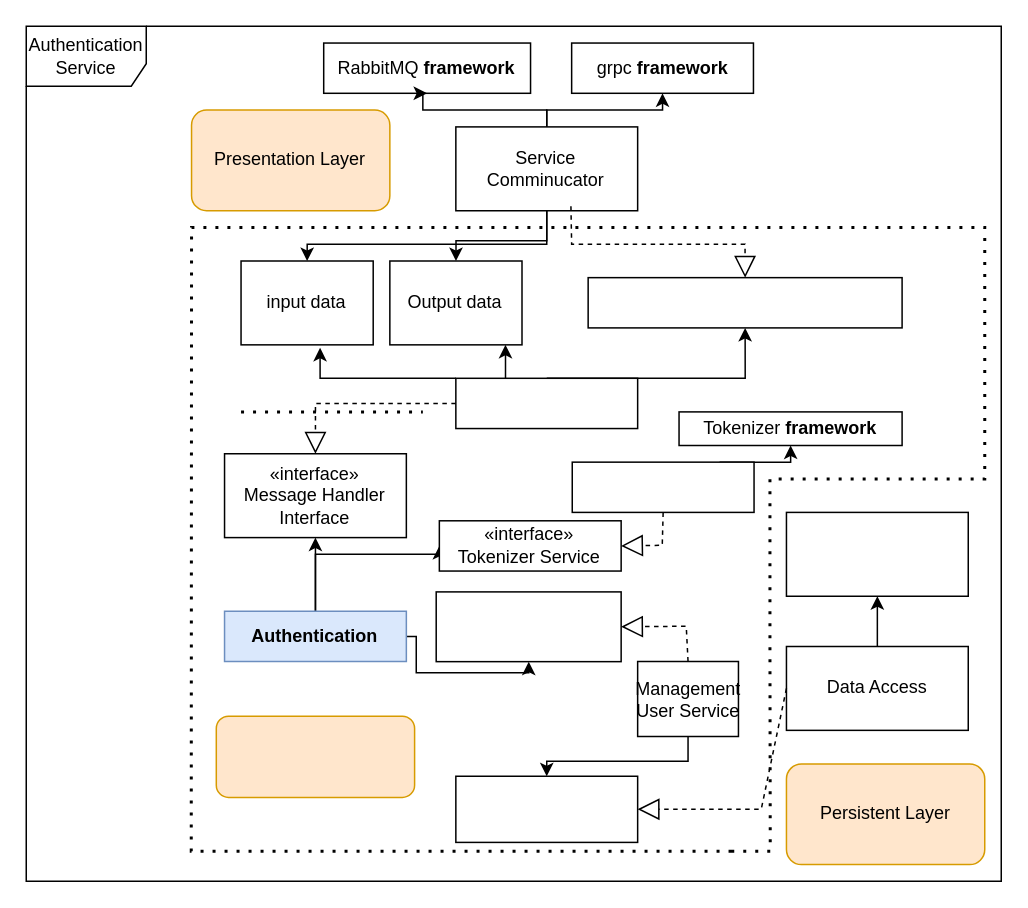
Some shapes in this 1028 by 908 pixel diagram are drawn without their labels. The shapes that lost their labels are listed below. From the top down, each one's box as (x1, y1, x2, y2) in pixels, then its label:
(587, 276, 902, 328): «interface» Message Interface
(454, 377, 638, 429): Message Handler
(571, 461, 754, 512): Tokenizer Services
(785, 511, 968, 596): DB
(435, 590, 621, 662): «interface» Management Service Interface
(215, 715, 415, 797): Business Layer
(454, 775, 638, 842): «interface» Data Access Interface
